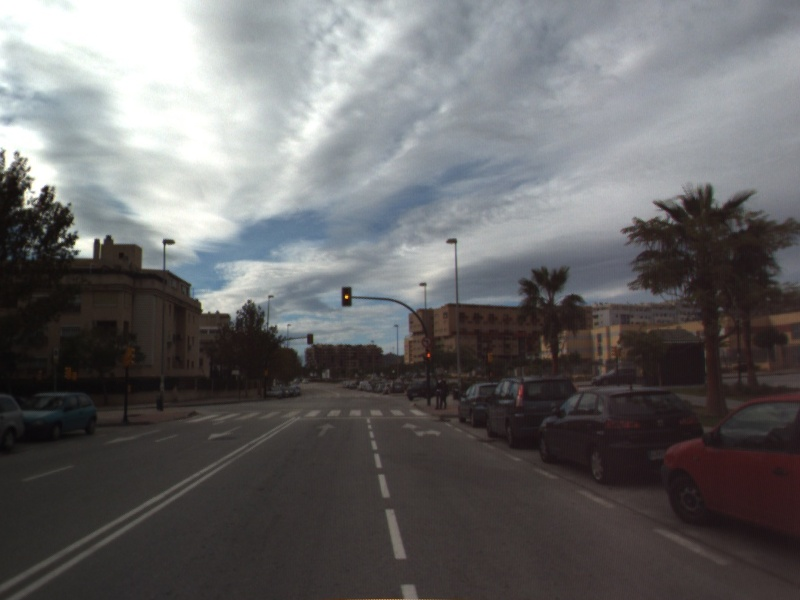STRAIGHT: (314, 421, 338, 438)
STRAIGHT_RIGHT: (399, 421, 443, 439)
